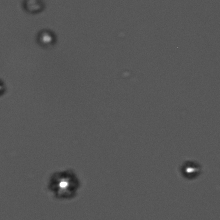Living Cell: (48, 169, 80, 201), (176, 159, 206, 183), (35, 25, 57, 49), (18, 1, 48, 14)
